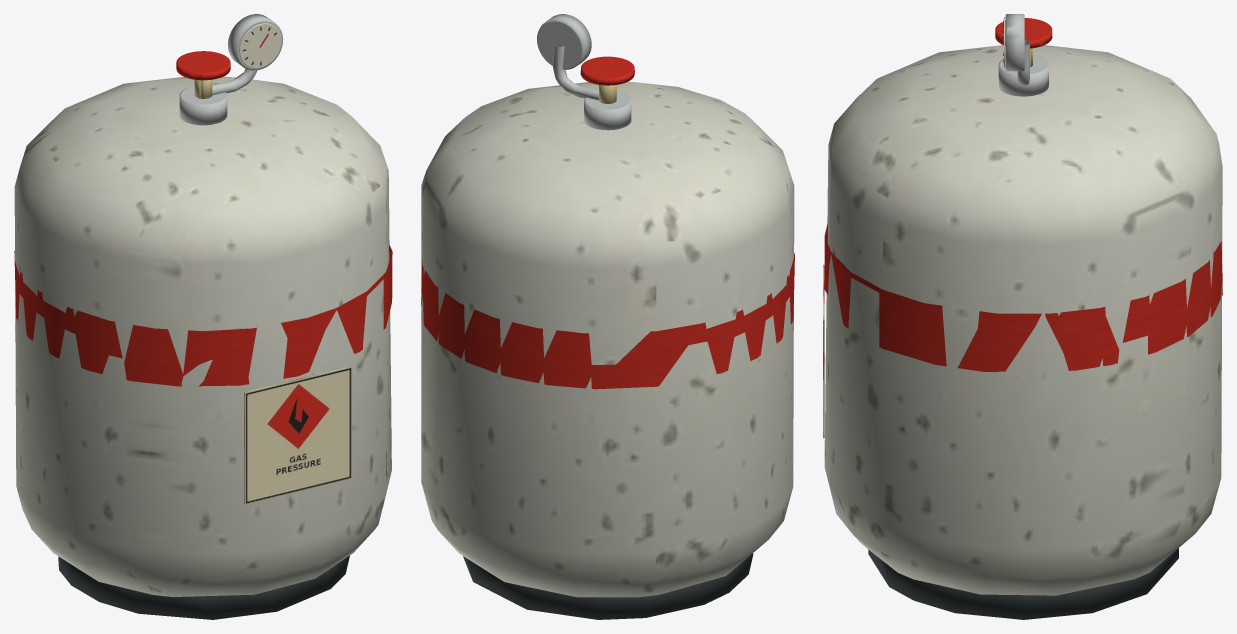
The model's file is gas.glb.
3 views of the same model, side by side, from view 1: azimuth 30°, elevation 25°; view 2: azimuth 150°, elevation 25°; view 3: azimuth 270°, elevation 25° (orthographic). The views are drawn at different scales.
Visible parts, largest first — view 1: Pressure vessel, Warning red band, Safety label, Base foot ring, Gauge dial, Valve boss, Valve hand wheel, Pressure gauge housing, Gauge pipe; view 2: Pressure vessel, Warning red band, Base foot ring, Pressure gauge housing, Valve boss, Valve hand wheel, Gauge pipe; view 3: Pressure vessel, Warning red band, Base foot ring, Valve boss, Pressure gauge housing, Valve hand wheel.
Part boxes in pixels (x1,y1,x2,y2): Pressure vessel: [14, 76, 391, 596]; Warning red band: [14, 244, 392, 386]; Safety label: [244, 366, 351, 504]; Base foot ring: [58, 555, 349, 619]; Gauge dial: [239, 23, 281, 68]; Valve boss: [179, 86, 227, 125]; Valve hand wheel: [176, 51, 230, 80]; Pressure gauge housing: [228, 14, 283, 70]; Gauge pipe: [212, 68, 257, 95]; Pressure vessel: [421, 81, 794, 597]; Warning red band: [421, 252, 794, 389]; Base foot ring: [463, 553, 753, 619]; Pressure gauge housing: [537, 14, 591, 69]; Valve boss: [584, 91, 631, 130]; Valve hand wheel: [580, 56, 634, 85]; Gauge pipe: [553, 45, 598, 100]; Pressure vessel: [824, 45, 1222, 595]; Warning red band: [824, 222, 1222, 371]; Base foot ring: [868, 548, 1178, 619]; Valve boss: [998, 55, 1048, 96]; Pressure gauge housing: [1005, 14, 1024, 71]; Valve hand wheel: [995, 18, 1052, 48].
Bounding box in the file's own units: 1.16 × 1.8 × 1.16.
Materials: 1 (1 with a texture image).
